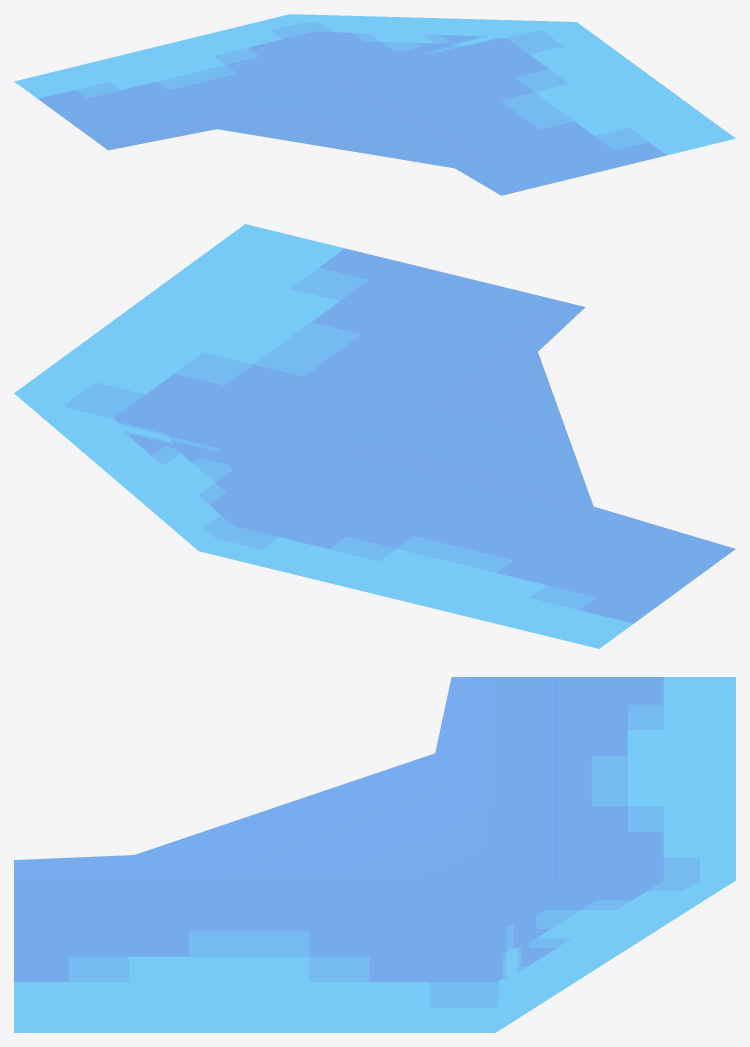
3 views of the same model, one above another, from view 1: azimuth 30°, elevation 25°; view 2: azimuth 150°, elevation 25°; view 3: azimuth 270°, elevation 25° (orthographic). The views are drawn at different scales.
Size of the model in its own units: 0.875 by 0 by 0.75.
Materials: 1 (1 with a texture image).
